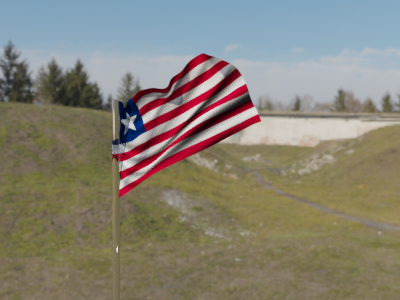Liberia flag: (120, 51, 258, 194)
